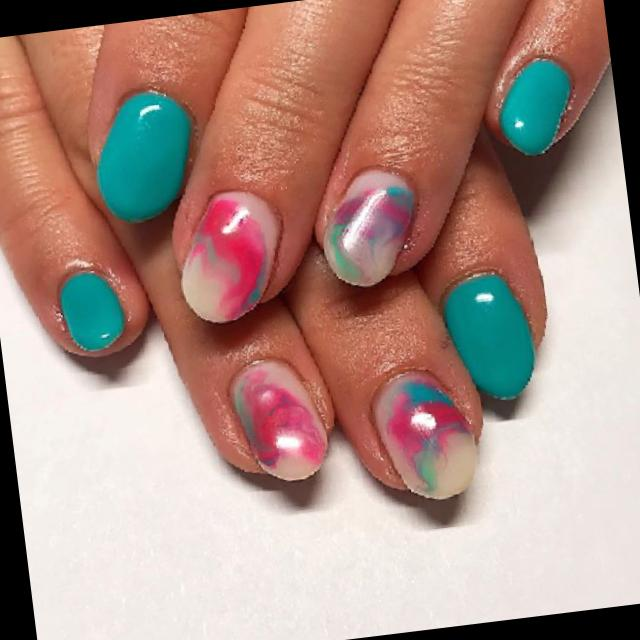Nail: (96, 89, 196, 222), (181, 189, 280, 323), (373, 371, 476, 497), (232, 359, 327, 479), (445, 272, 532, 396), (324, 170, 414, 285), (499, 59, 571, 154), (60, 270, 127, 350)
